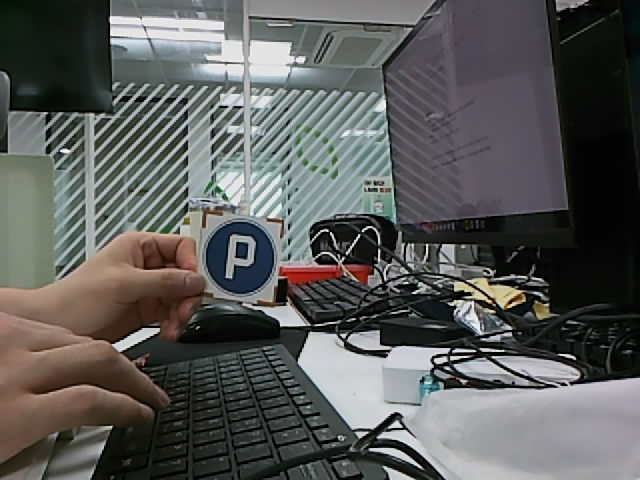park: (203, 218, 277, 297)
